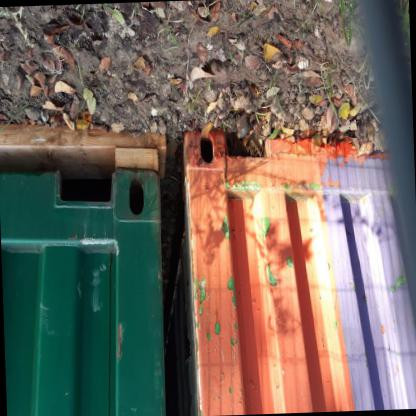CornerCasting: (108, 166, 167, 227), (178, 121, 230, 179)
